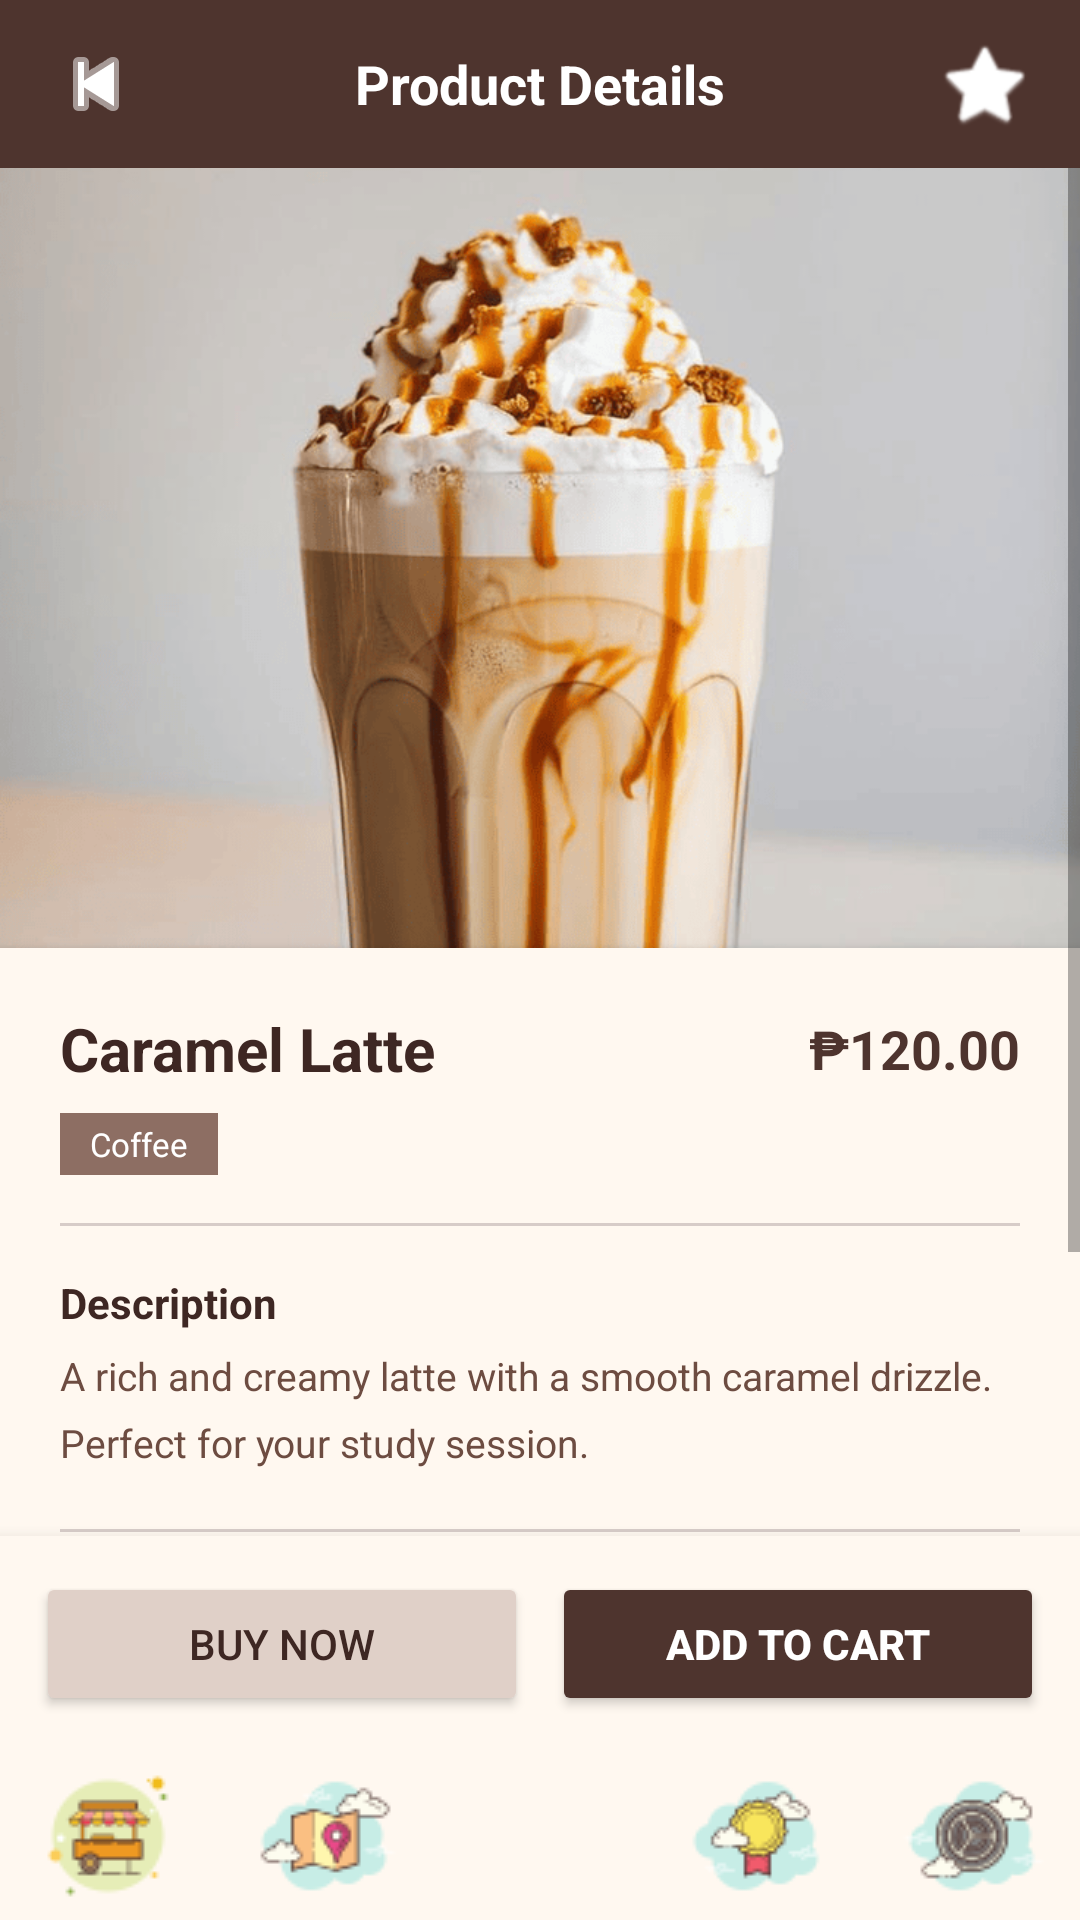

Where icons sit on this 1080×1920 app screen, as BBox(x1, y1, x2, y2):
Back: BBox(73, 57, 119, 111)
Favorite: BBox(945, 46, 1025, 124)
Locator: BBox(260, 1782, 391, 1890)
